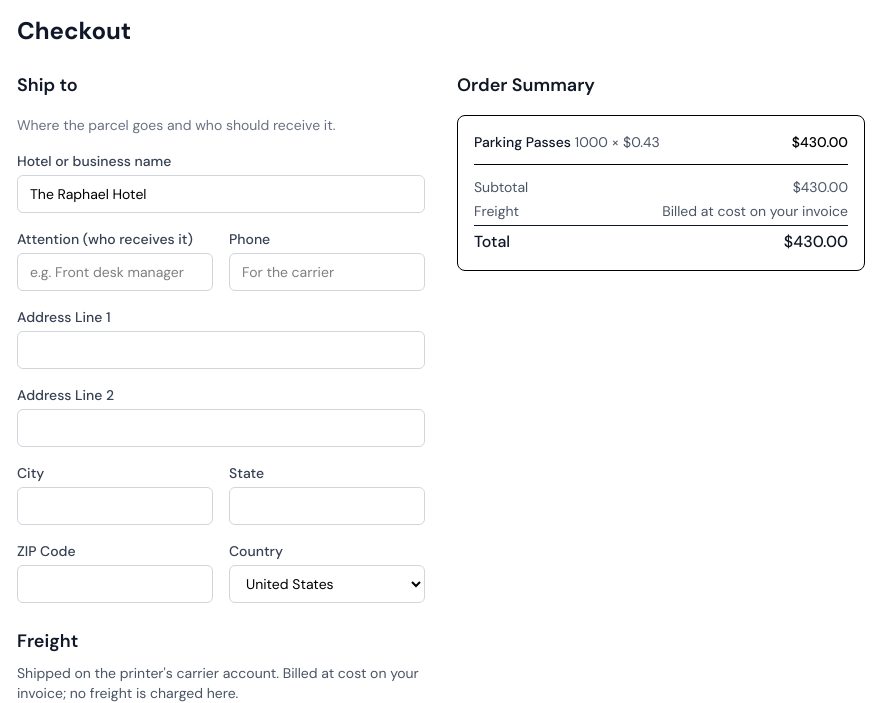
Test: CheckoutPage — invoice-terms buyer path › shows the server error and stays on the page when the order is refused
Replace the text in the field labelled "Hotel or business name" with "Front Desk" at x=221, y=194, box [17,175,425,213]
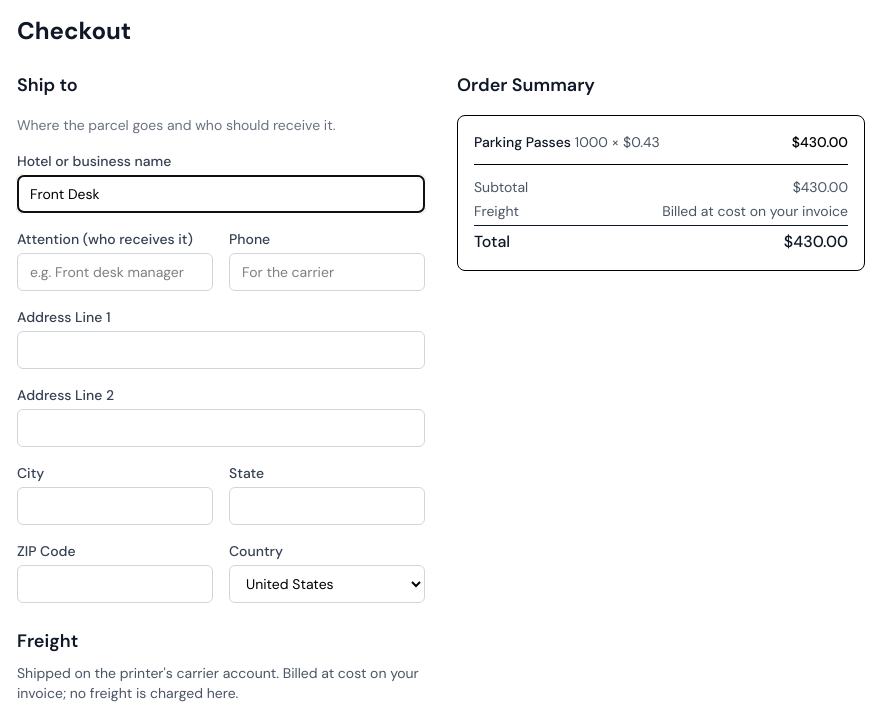
Type "325 Ward Pkwy" into the field labelled "Address Line 1".
click(221, 350); type("325 Ward Pkwy")  # box [17,331,425,369]
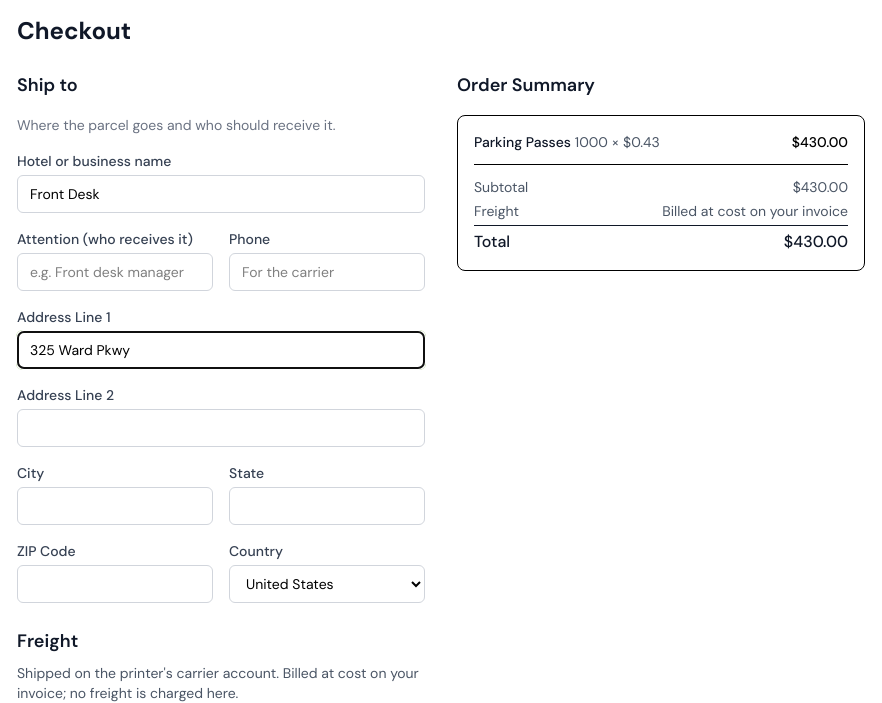
Type "Kansas City" into the field labelled "City".
click(115, 506); type("Kansas City")  # box [17,487,213,525]
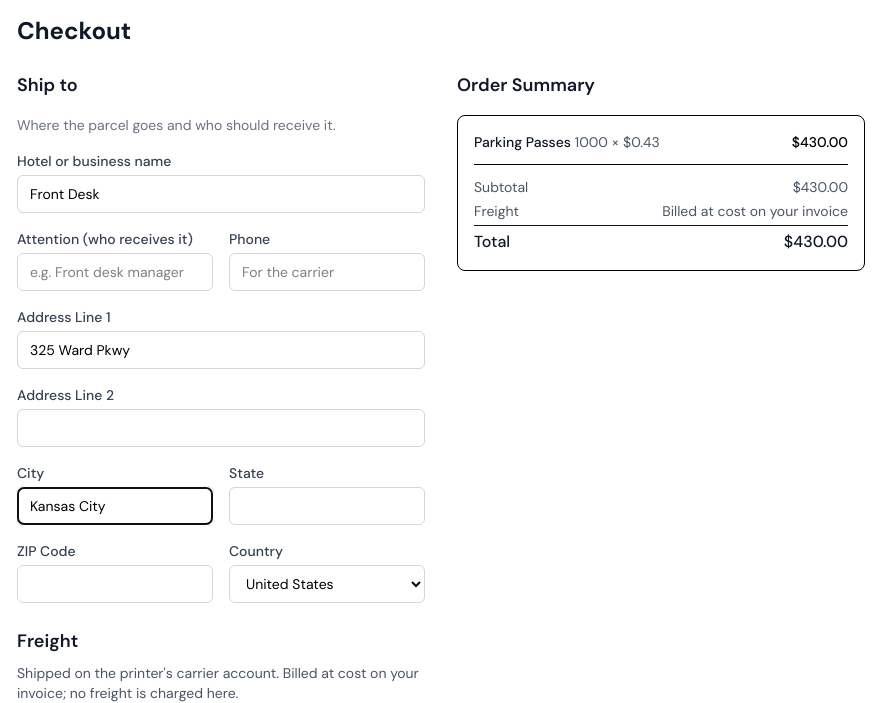
Type "MO" into the field labelled "State".
click(327, 506); type("MO")  # box [229,487,425,525]
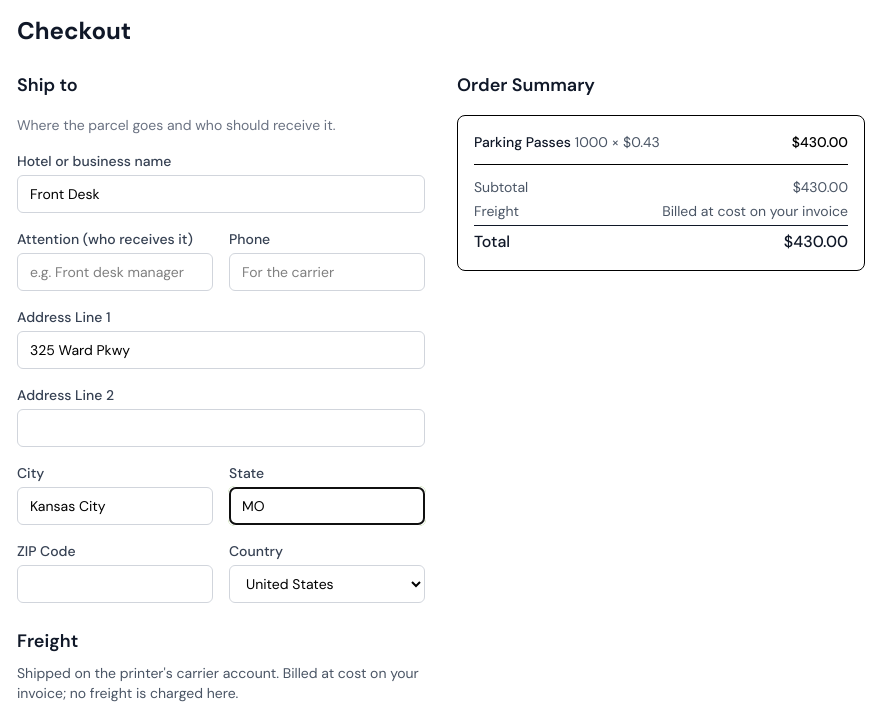
Type "64112" into the field labelled "ZIP Code".
click(115, 584); type("64112")  # box [17,565,213,603]
(page scrolled)
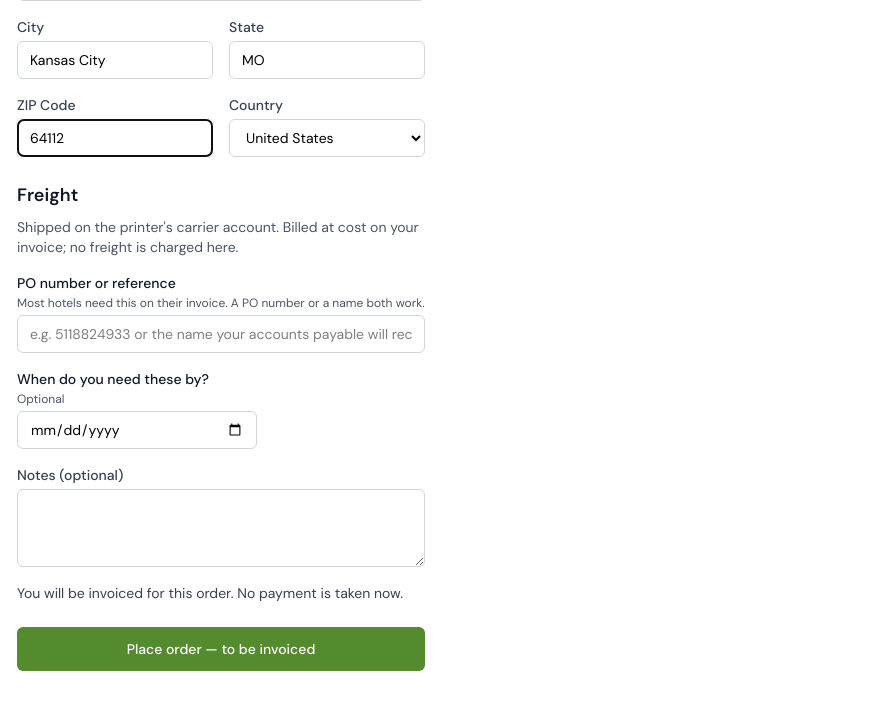
Click the button "Place order — to be invoiced".
click(221, 649)  # box [17,627,425,671]
(page scrolled)
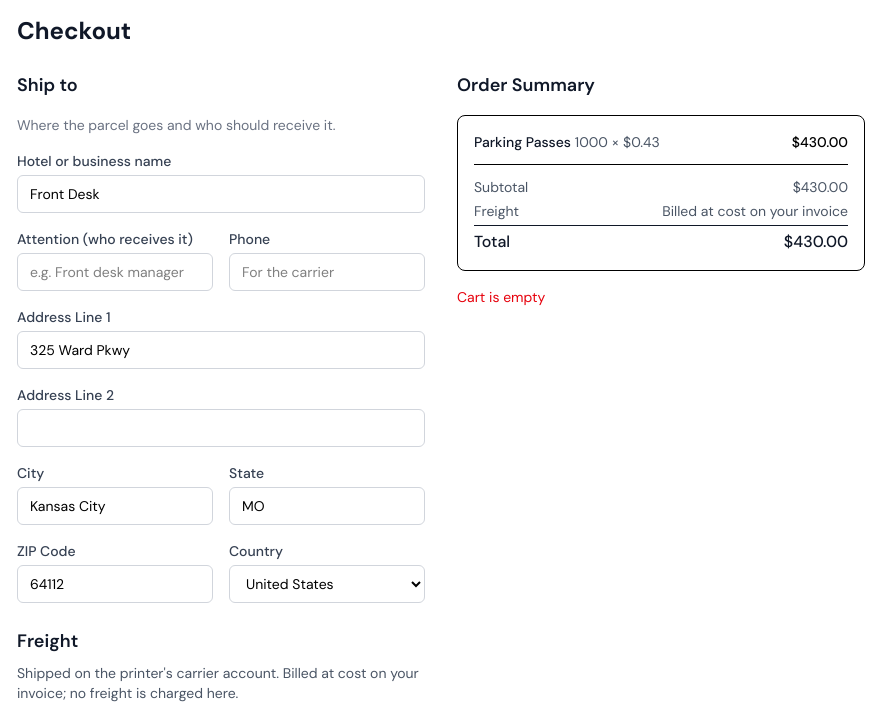
Expected: the text "Cart is empty" is shown, [457,288,545,306]
